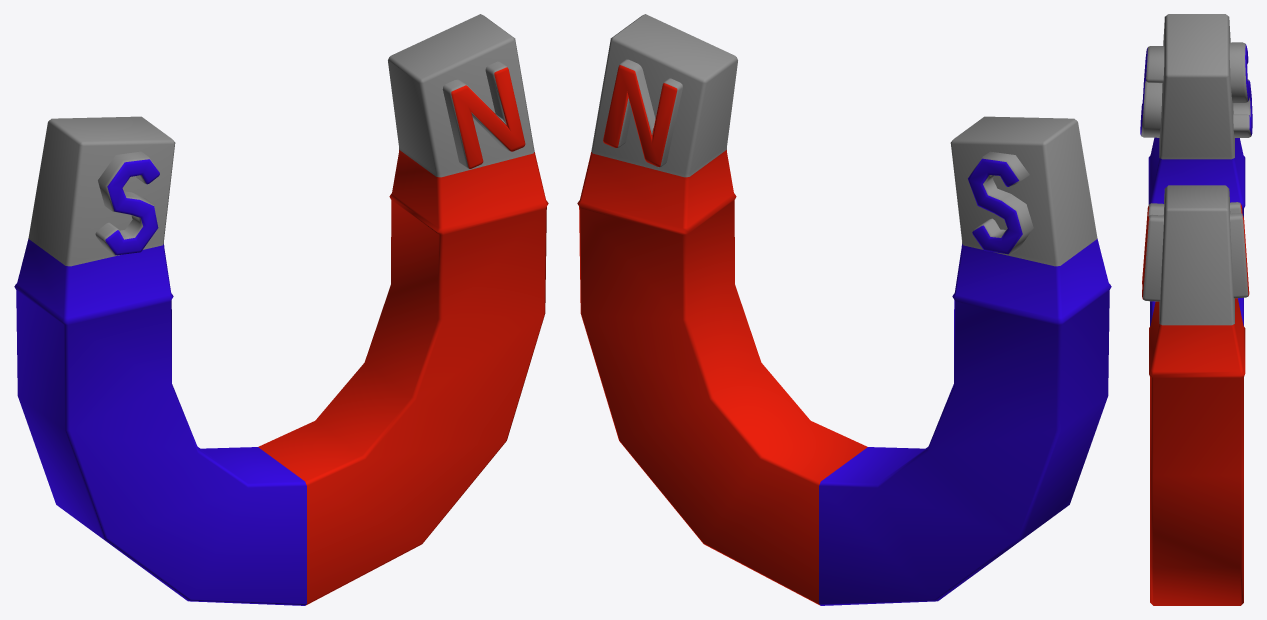
Rendered from magnet.fbx.
3 views of the same model, side by side, from view 1: azimuth 30°, elevation 25°; view 2: azimuth 150°, elevation 25°; view 3: azimuth 270°, elevation 25° (orthographic). The views are drawn at different scales.
Parts seen in each view (by area): view 1: magnet; view 2: magnet; view 3: magnet.
Boxes of the visible parts, <box> form: magnet: <box>14,14,548,605</box>; magnet: <box>577,14,1111,605</box>; magnet: <box>1140,14,1252,605</box>.
Size of the model in its own units: 301 by 302 by 65.14.
